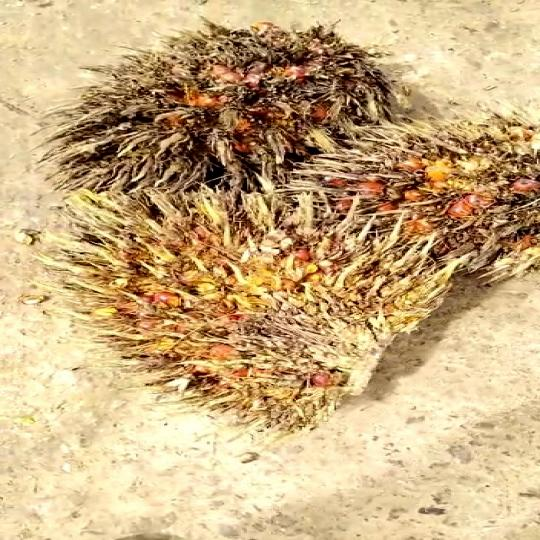terlalu masak: (52, 178, 474, 415), (0, 26, 387, 193), (280, 118, 540, 271)
